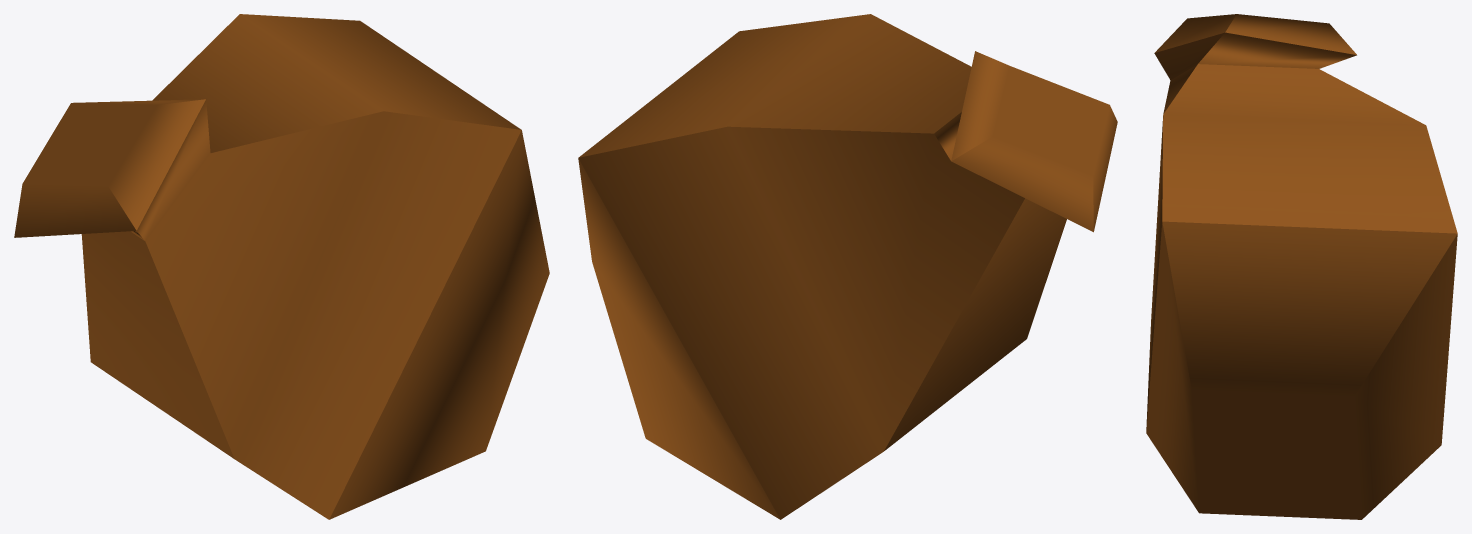
Rendered from vikinggeneraltheifsack_full.fbx.
3 views of the same model, side by side, from view 1: azimuth 30°, elevation 25°; view 2: azimuth 150°, elevation 25°; view 3: azimuth 270°, elevation 25° (orthographic). The views are drawn at different scales.
Parts seen in each view (by area): view 1: polySurface201; view 2: polySurface201; view 3: polySurface201.
Part boxes in pixels (bbox=[...]): polySurface201: bbox=[14, 14, 549, 519]; polySurface201: bbox=[578, 14, 1117, 519]; polySurface201: bbox=[1146, 14, 1457, 519].
Size of the model in its own units: 31.09 by 25.75 by 19.29.
1 material, 1 textured.
